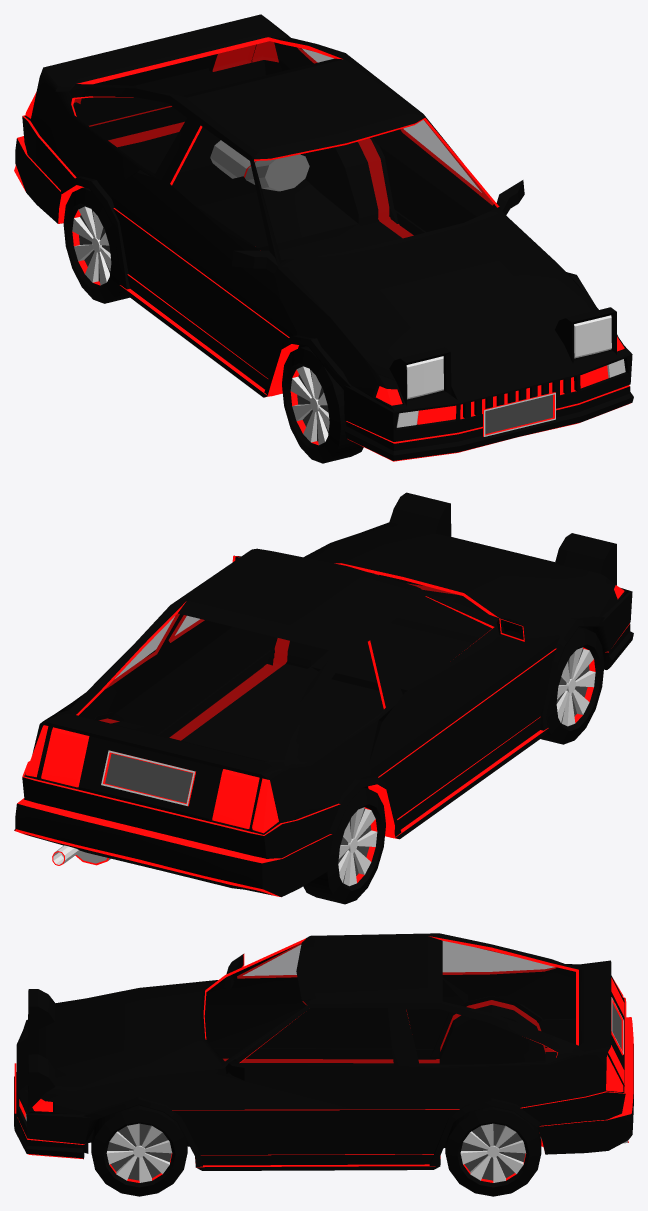
The model's file is Car_Unity_Export.fbx.
The picture shows the model from 3 angles, top to bottom: view 1: azimuth 30°, elevation 25°; view 2: azimuth 150°, elevation 25°; view 3: azimuth 270°, elevation 25°; orthographic projection. The views are drawn at different scales.
Visible parts, largest first — view 1: Car_Body_Base, FR_Tire, BR_Tire, Exhaust, F_Plate, L_Mirror; view 2: Car_Body_Base, BR_Tire, FR_Tire, B_Plate, Exhaust; view 3: Car_Body_Base, FL_Tire, BL_Tire, B_Plate.
Part boxes in pixels (bbox=[...]): Car_Body_Base: bbox=[14, 14, 633, 461]; FR_Tire: bbox=[282, 346, 363, 463]; BR_Tire: bbox=[63, 187, 129, 303]; Exhaust: bbox=[210, 140, 309, 191]; F_Plate: bbox=[483, 392, 555, 436]; L_Mirror: bbox=[232, 250, 277, 273]; Car_Body_Base: bbox=[14, 492, 633, 897]; BR_Tire: bbox=[303, 787, 385, 904]; FR_Tire: bbox=[541, 627, 604, 744]; B_Plate: bbox=[101, 750, 195, 806]; Exhaust: bbox=[52, 845, 110, 865]; Car_Body_Base: bbox=[14, 933, 633, 1170]; FL_Tire: bbox=[91, 1105, 187, 1196]; BL_Tire: bbox=[445, 1106, 541, 1196]; B_Plate: bbox=[611, 997, 623, 1055].
Size of the model in its own units: 1.45 by 1.03 by 3.27.
